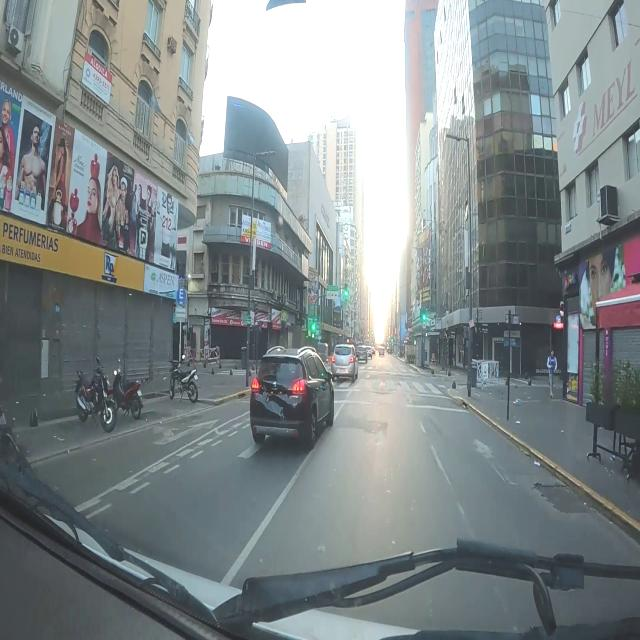car: (250, 348, 334, 449), (331, 344, 358, 381), (356, 345, 368, 363), (366, 346, 374, 357), (378, 345, 384, 356)
motorcycle: (76, 358, 116, 432), (108, 361, 142, 419), (169, 361, 198, 402)
